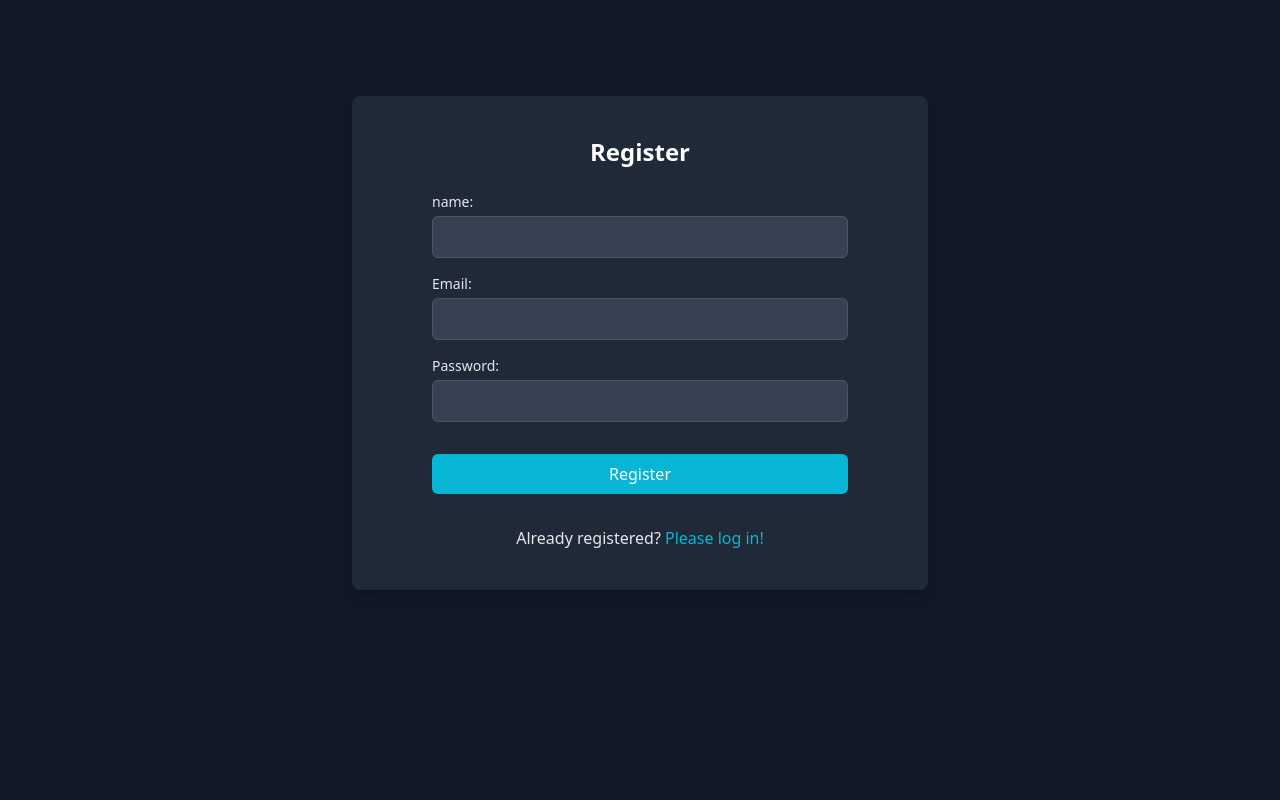
Scenario: RegisterForm Component › sends a request and shows success message on successful registration
Note: Fill out the form
Type "Test User" into the field labelled "name:" at point(640, 237), box [432, 216, 848, 258]
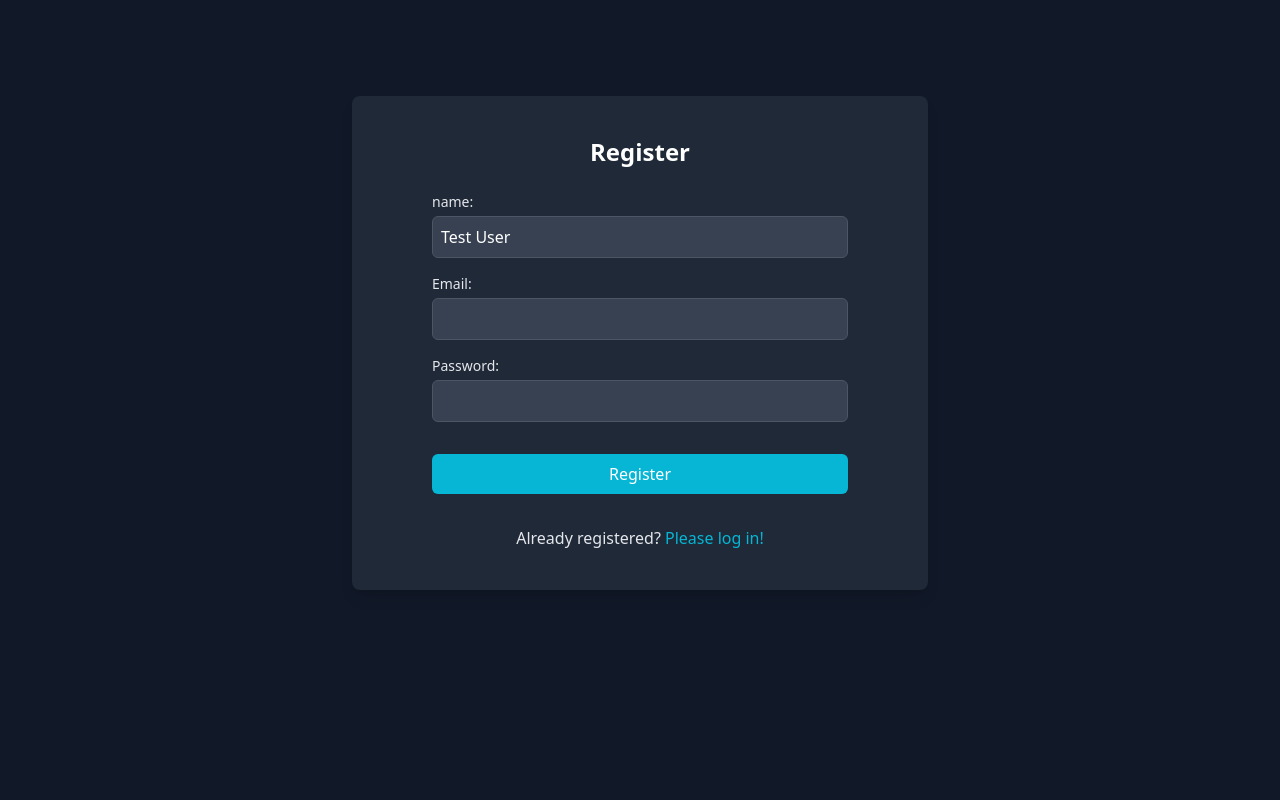
Type "test@example.com" into the field labelled "Email:" at point(640, 319), box [432, 298, 848, 340]
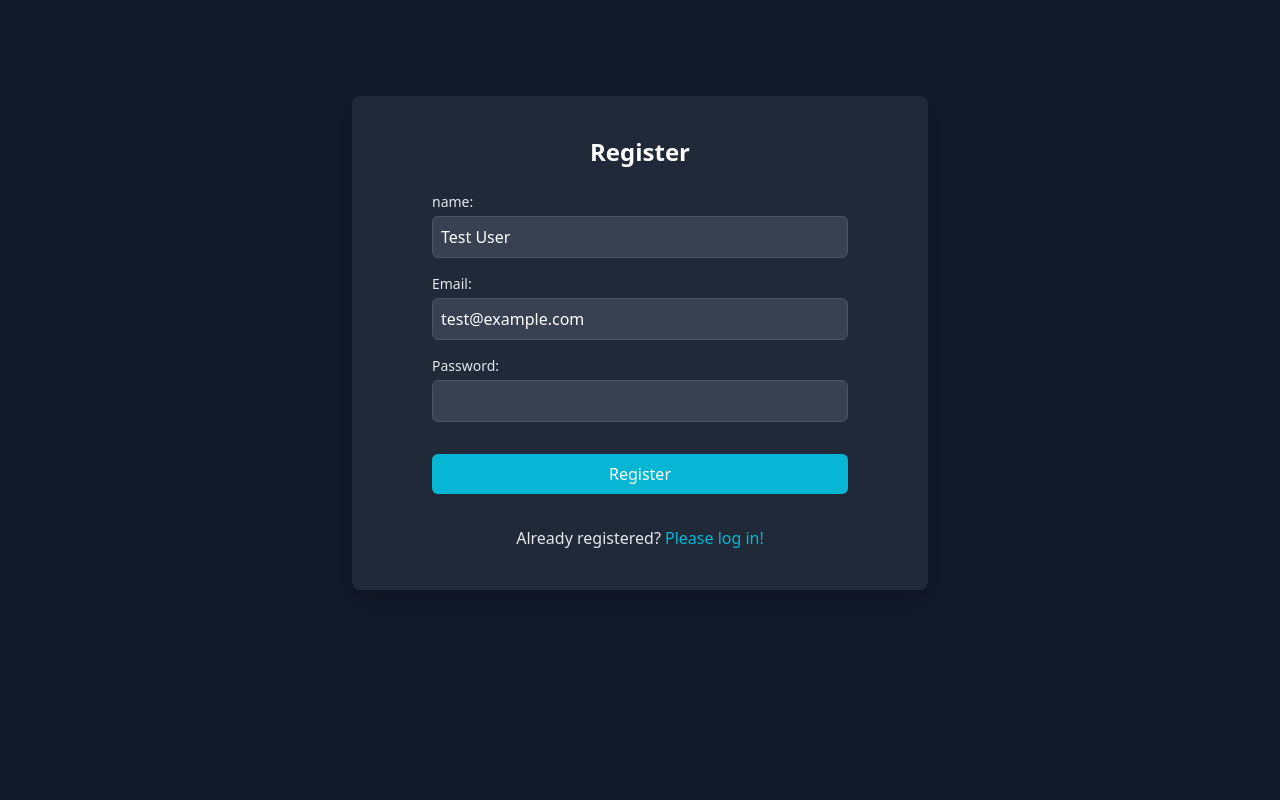
Type "password123" into the password field labelled "Password:" at point(640, 401), box [432, 380, 848, 422]
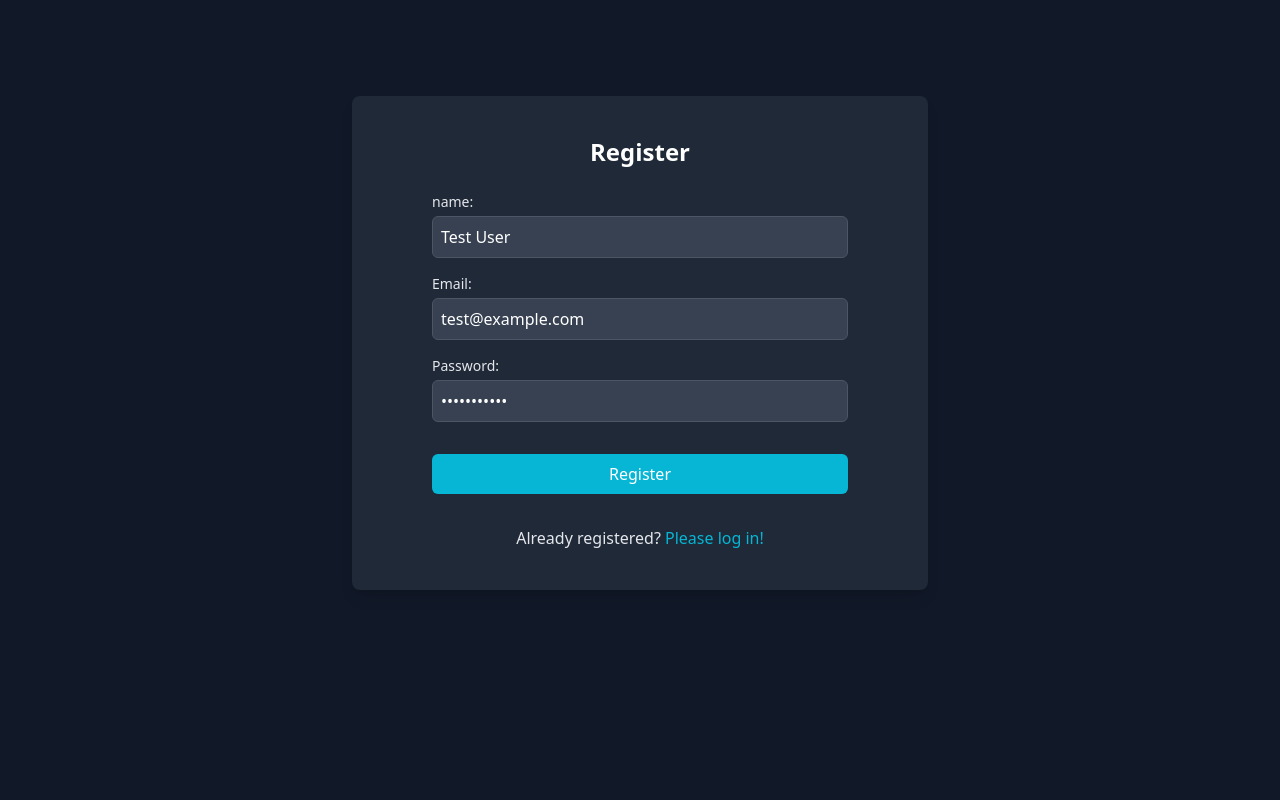
Note: Submit the form
Click the button "Register" at point(640, 474), box [432, 454, 848, 494]
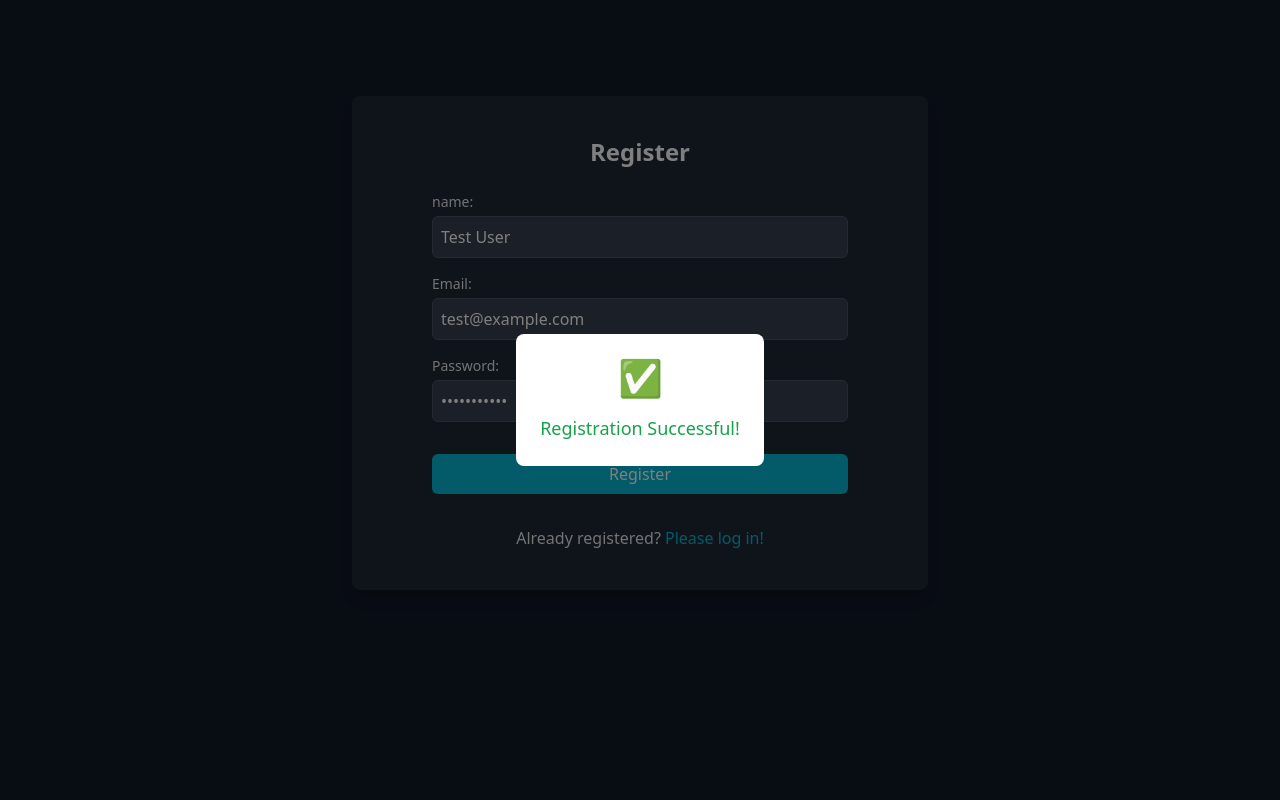
Expected: the text "Registration Successful!" is shown, [540, 414, 740, 442]
